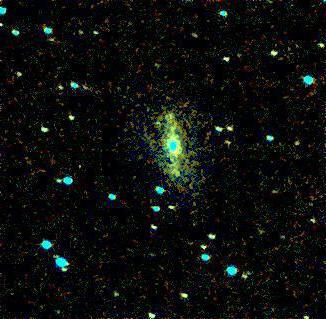star: (160, 152, 190, 182)
